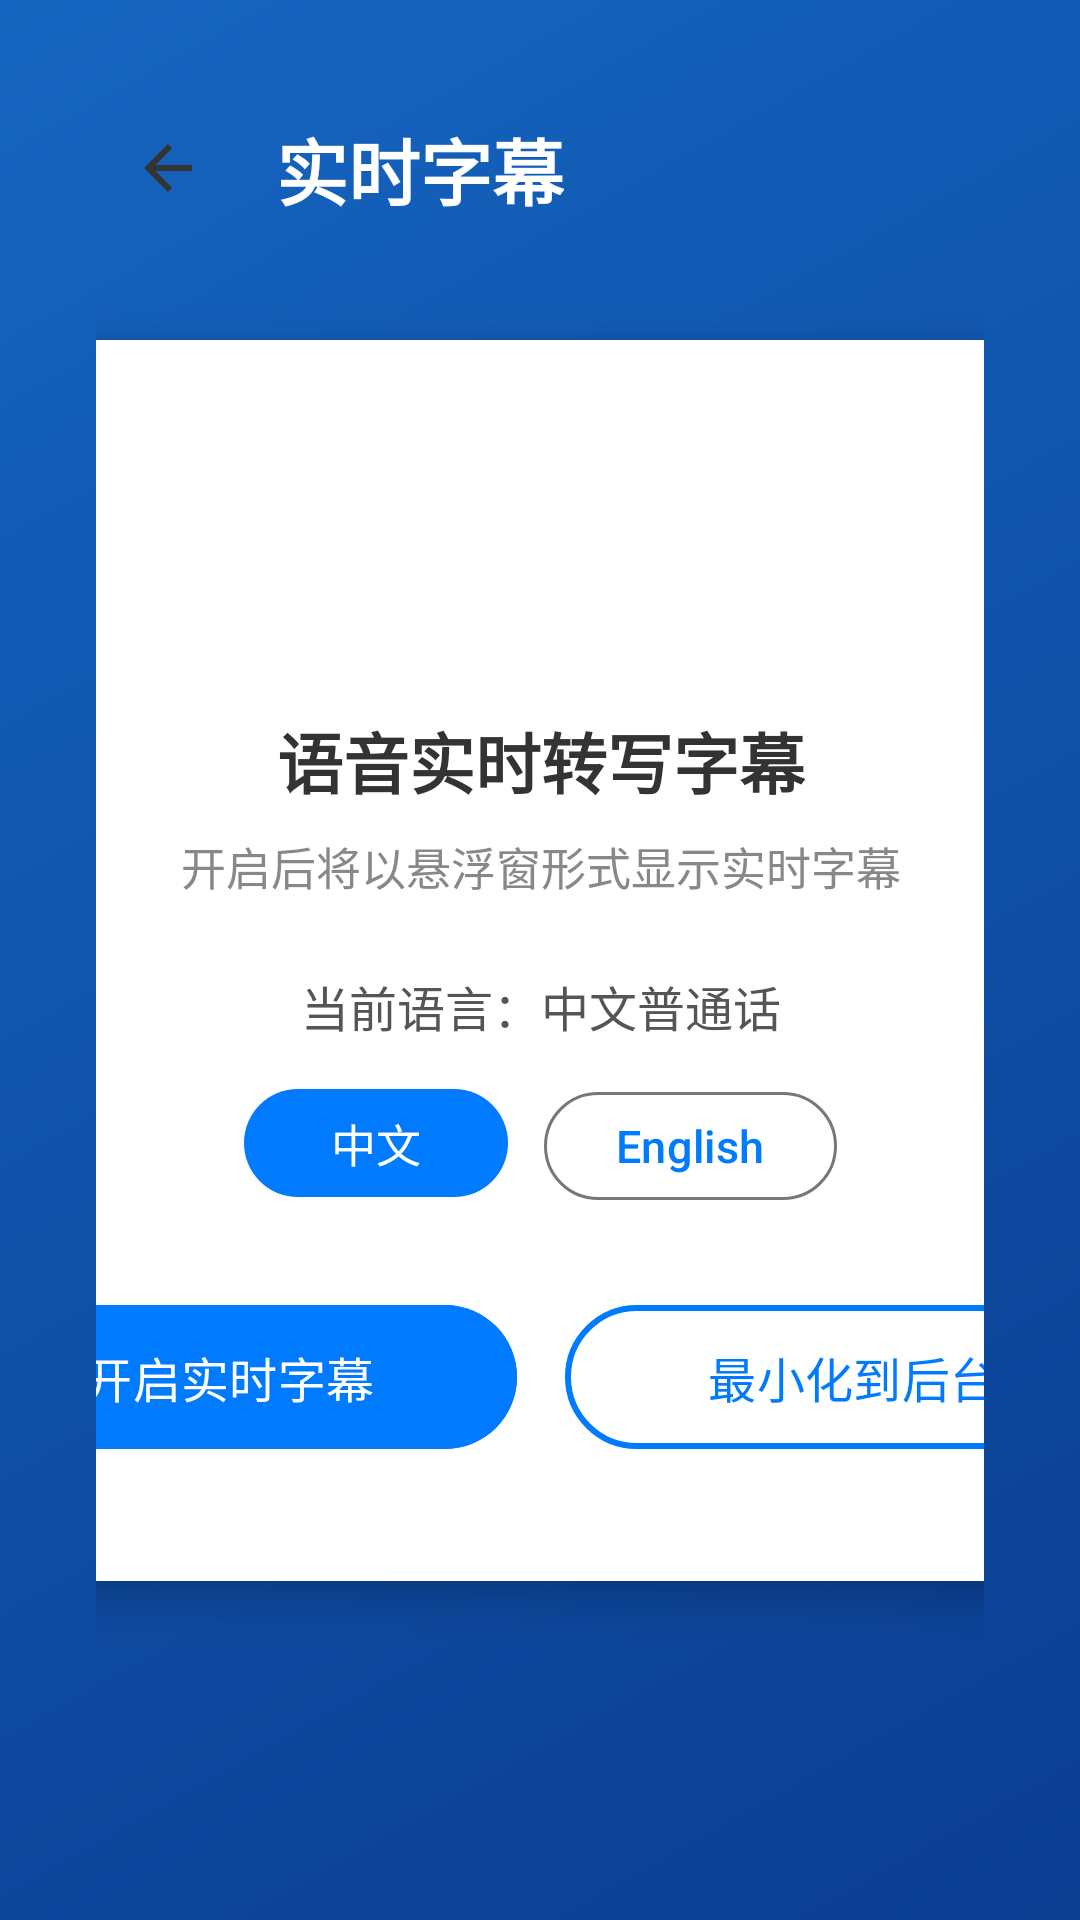

Named icons in this screenshot (1080w x 1920h) and their bounding boxes, (x1, y1, x2, y2):
返回: (144, 144, 192, 192)
